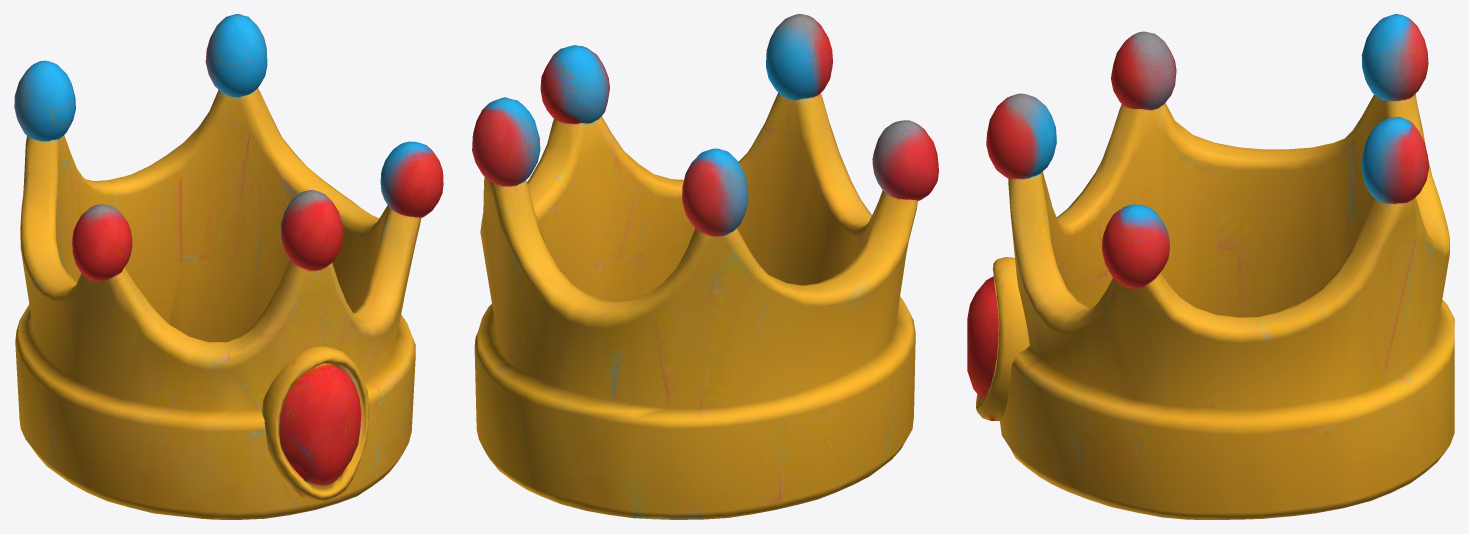
File: hat_crown.glb
The picture shows the model from 3 angles, left to right: view 1: azimuth 30°, elevation 25°; view 2: azimuth 150°, elevation 25°; view 3: azimuth 270°, elevation 25°; orthographic projection. The views are drawn at different scales.
Size of the model in its own units: 0.931 by 0.847 by 1.
1 material, 1 textured.
